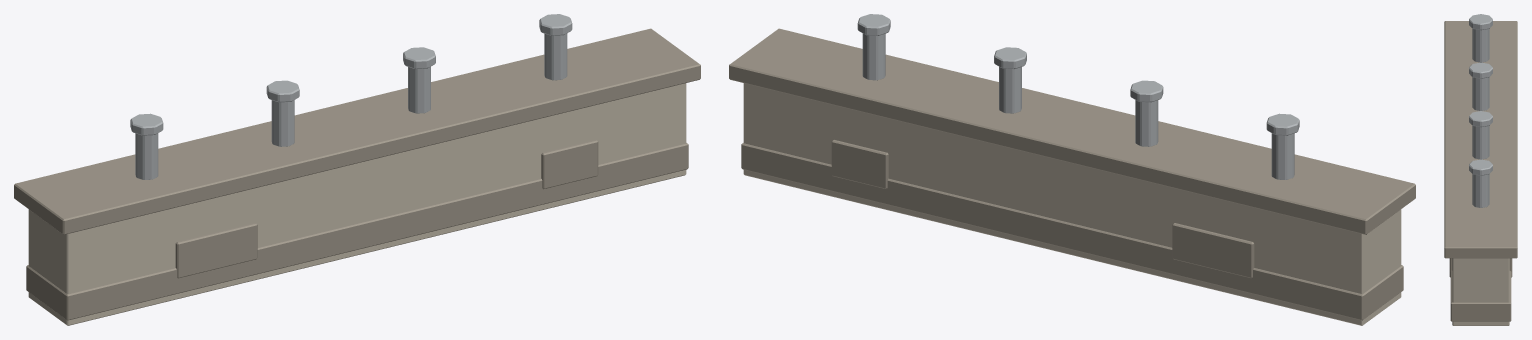
Rendered from TC_ENV_SeawallRun_V1.glb.
3 renders of one model, left to right at view 1: azimuth 30°, elevation 25°; view 2: azimuth 150°, elevation 25°; view 3: azimuth 270°, elevation 25°, orthographic. The views are drawn at different scales.
Visible parts, largest first — view 1: TC_ENV_SeawallRun_V1; view 2: TC_ENV_SeawallRun_V1; view 3: TC_ENV_SeawallRun_V1.
Part boxes in pixels (x1,y1,x2,y2): TC_ENV_SeawallRun_V1: [14, 14, 700, 325]; TC_ENV_SeawallRun_V1: [729, 14, 1415, 325]; TC_ENV_SeawallRun_V1: [1444, 14, 1517, 325].
Size of the model in its own units: 10.3 by 2.59 by 1.4.
